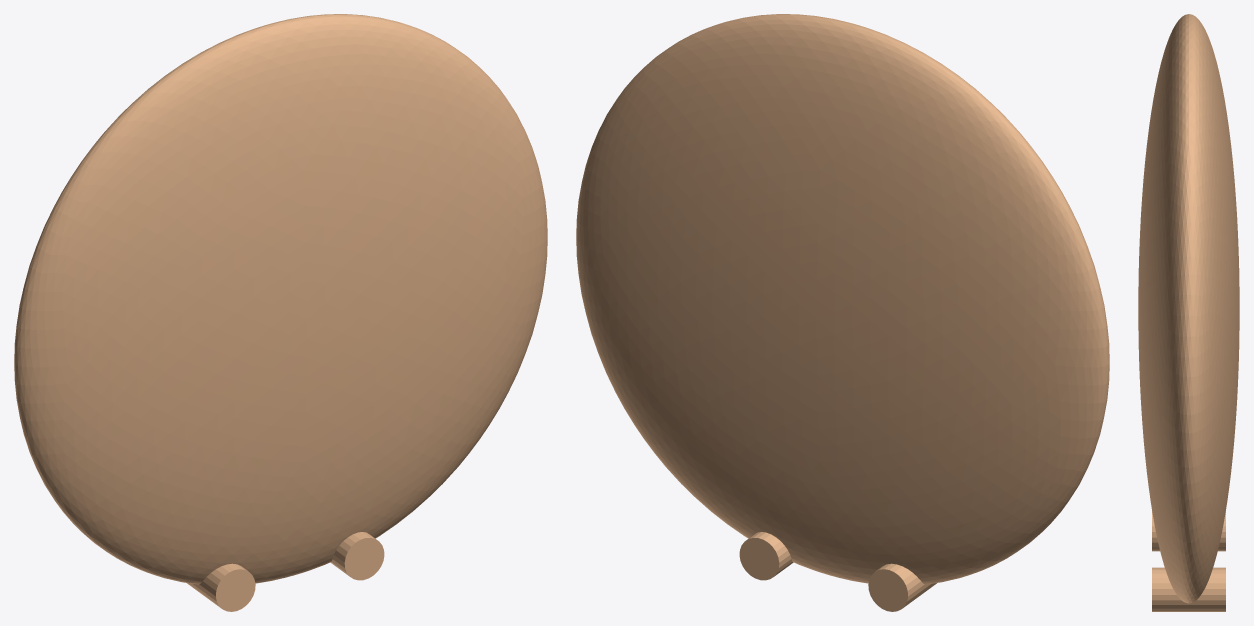
File: capacitor_ceramic.glb
3 views of the same model, side by side, from view 1: azimuth 30°, elevation 25°; view 2: azimuth 150°, elevation 25°; view 3: azimuth 270°, elevation 25° (orthographic). The views are drawn at different scales.
Visible parts, largest first — view 1: geometry_0; view 2: geometry_0; view 3: geometry_0.
Part boxes in pixels (box(x1,y1,x2,y2)): geometry_0: box(14, 14, 547, 611); geometry_0: box(576, 14, 1109, 611); geometry_0: box(1138, 14, 1239, 611).
Size of the model in its own units: 0.64 by 0.6444 by 0.11.
